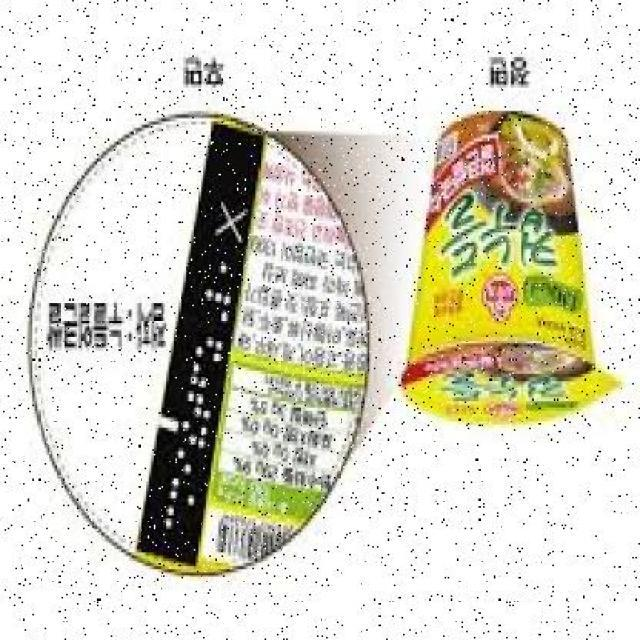Miscellaneous: (397, 102, 616, 448)
